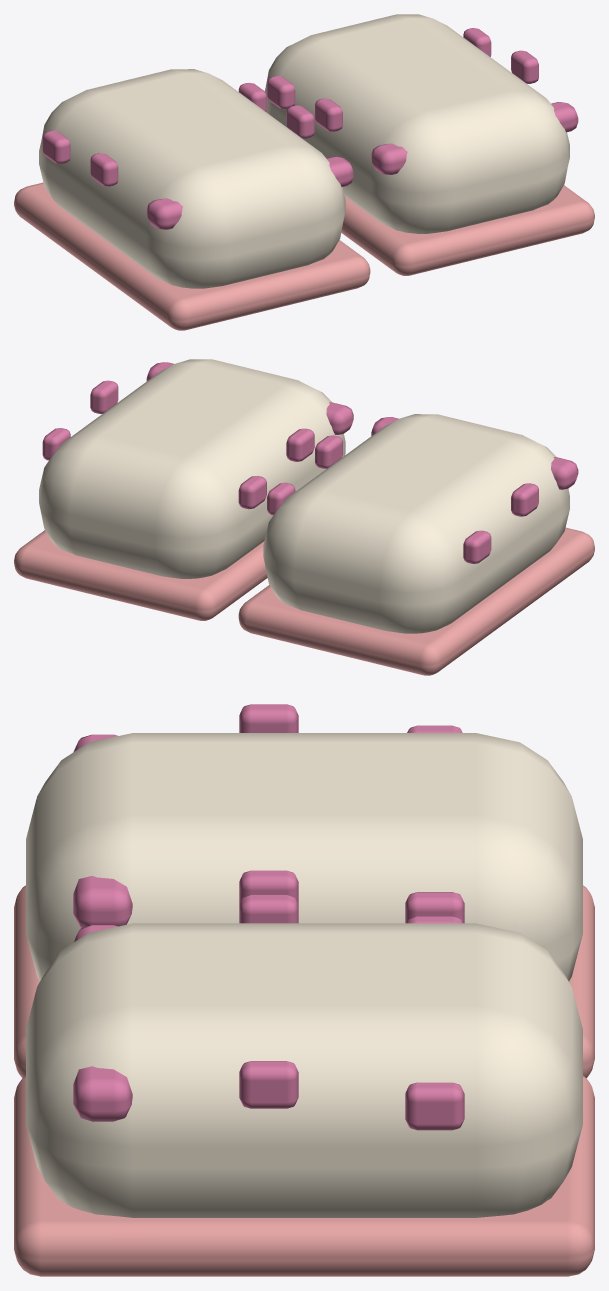
The model's file is flip_flops.glb.
3 views of the same model, one above another, from view 1: azimuth 30°, elevation 25°; view 2: azimuth 150°, elevation 25°; view 3: azimuth 270°, elevation 25° (orthographic). The views are drawn at different scales.
Visible parts, largest first — view 1: flip_flops_LegL, flip_flops_LegR; view 2: flip_flops_LegL, flip_flops_LegR; view 3: flip_flops_LegR, flip_flops_LegL.
Part boxes in pixels (x1=…): flip_flops_LegL: x1=14, y1=69, x2=370, y2=330; flip_flops_LegR: x1=264, y1=14, x2=594, y2=275; flip_flops_LegL: x1=238, y1=414, x2=594, y2=675; flip_flops_LegR: x1=14, y1=359, x2=353, y2=620; flip_flops_LegR: x1=14, y1=894, x2=594, y2=1276; flip_flops_LegL: x1=14, y1=704, x2=594, y2=1077.
Size of the model in its own units: 0.37 by 0.1075 by 0.245.
